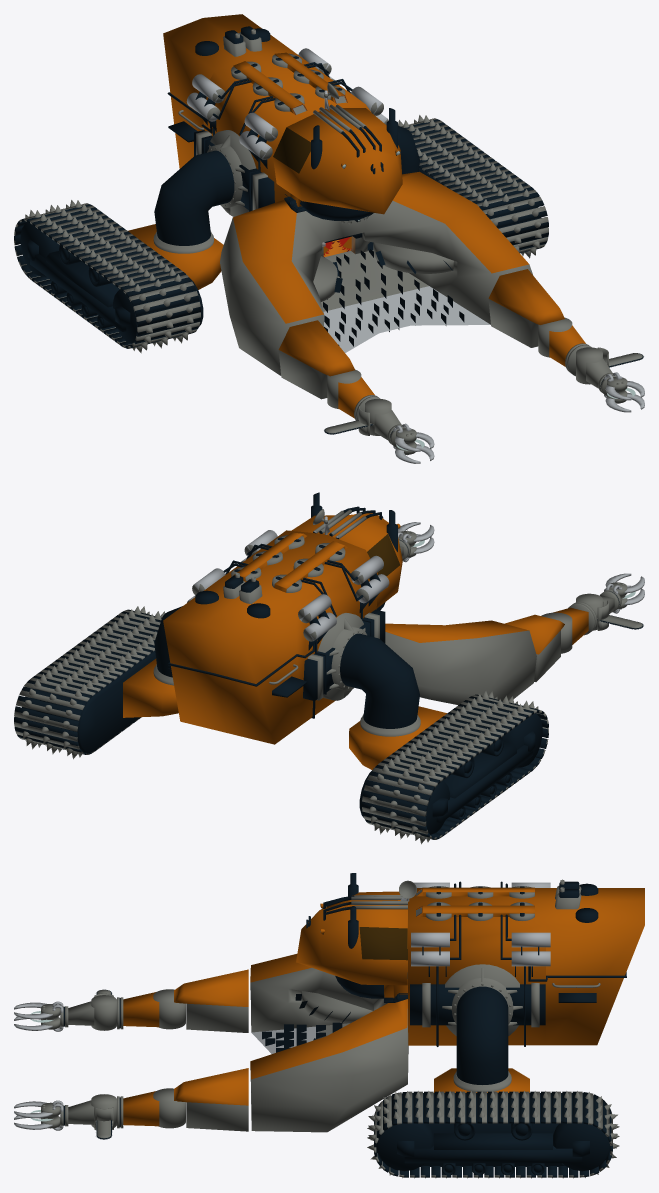
File: Leveler_LEGO.obj
3 renders of one model, top to bottom at view 1: azimuth 30°, elevation 25°; view 2: azimuth 150°, elevation 25°; view 3: azimuth 270°, elevation 25°, orthographic. The views are drawn at different scales.
Visible parts, largest first — view 1: Leveler, Chenille_01, Chenille_002, Plane014; view 2: Leveler, Chenille_01, Chenille_002; view 3: Leveler, Chenille_002, Plane014.
Part boxes in pixels (box(x1,y1,x2,y2)): Leveler: box(20, 14, 644, 463); Chenille_01: box(14, 200, 200, 353); Chenille_002: box(398, 115, 548, 258); Plane014: box(323, 249, 464, 346); Leveler: box(22, 492, 644, 834); Chenille_01: box(362, 691, 548, 844); Chenille_002: box(14, 606, 165, 759); Leveler: box(14, 873, 644, 1175); Chenille_002: box(367, 1091, 619, 1178); Plane014: box(262, 1022, 342, 1052).
Size of what is drawn, in the model's own units: 61.23 by 30.65 by 83.81.
